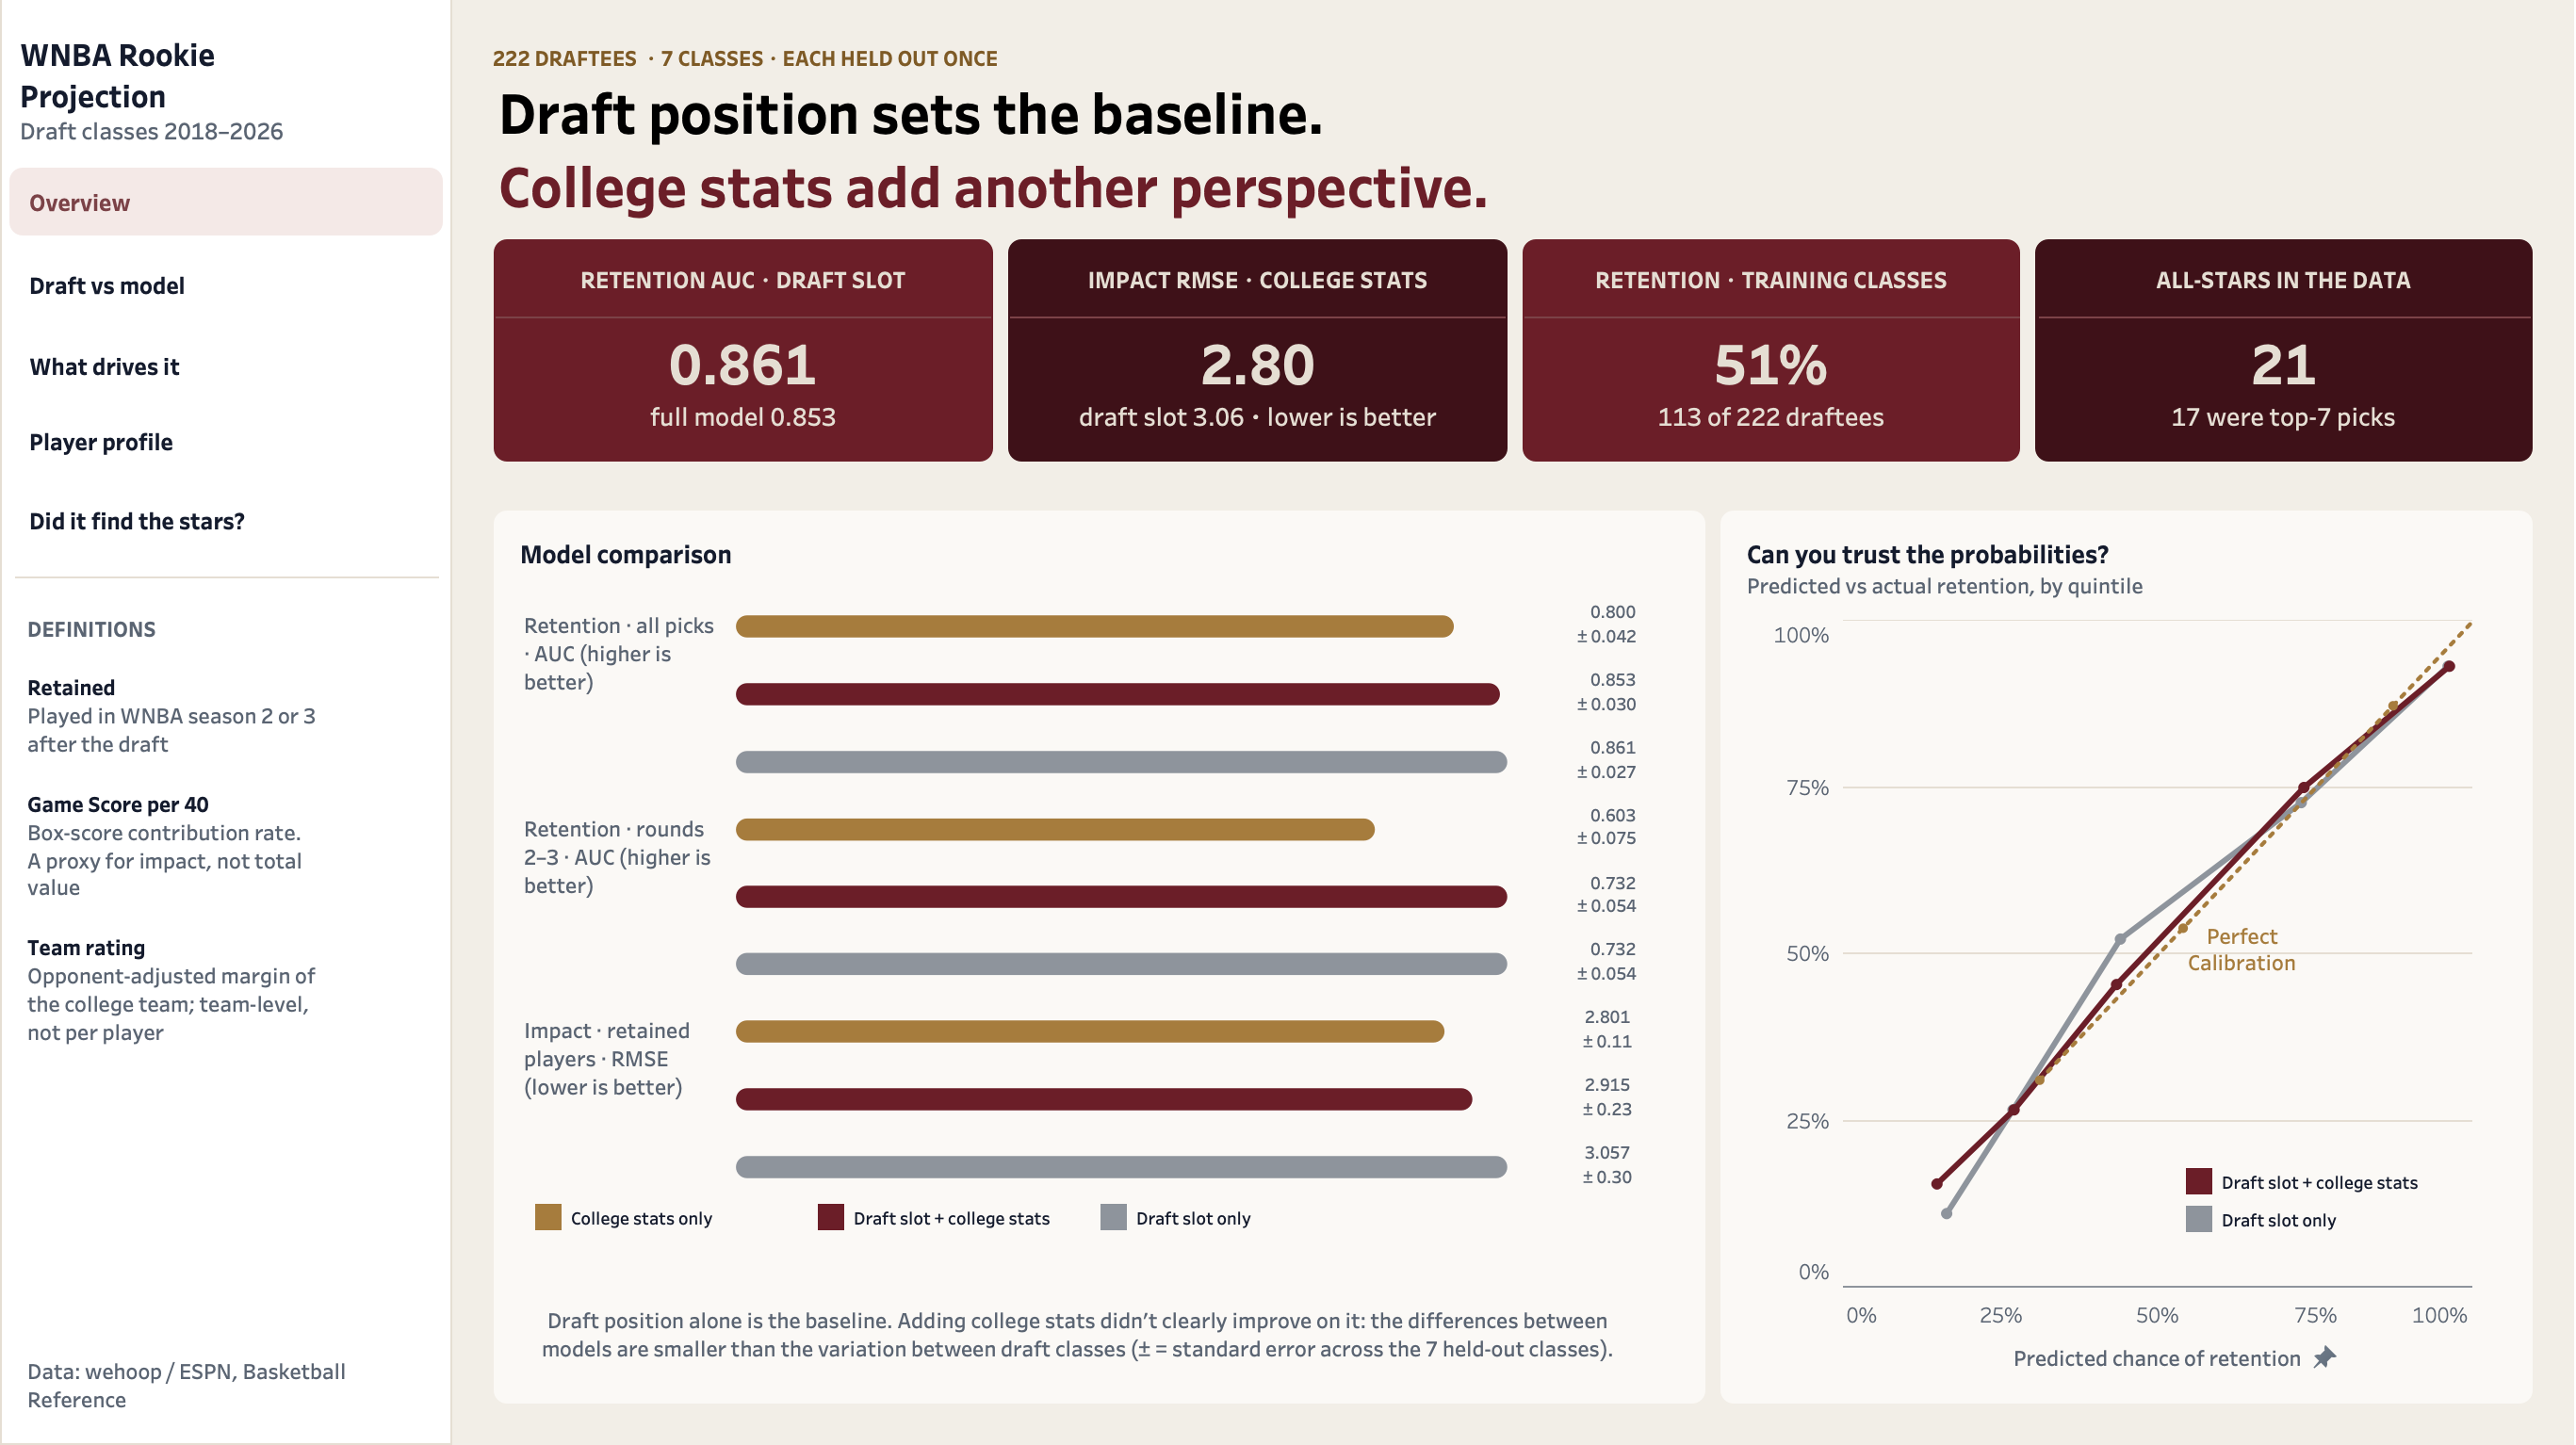

Layout of this report page (visuals, bound fields, positions):
{"tool":"tableau","page":{"name":"Overview","canvas":[1366,768],"ordinal":1},"visuals":[{"type":"text","box":[240,0,1126,40]},{"type":"text","box":[1,1,238,85]},{"type":"text","box":[240,40,1126,84]},{"type":"text","box":[1,86,238,44]},{"type":"dashboard-object","box":[7,90,229,38]},{"type":"text","box":[258,124,273,126]},{"type":"text","box":[531,124,273,126]},{"type":"text","box":[804,124,272,126]},{"type":"text","box":[1076,124,272,126]},{"type":"text","box":[1,130,238,44]},{"type":"dashboard-object","box":[5,134,229,38]},{"type":"blank","box":[263,169,263,1]},{"type":"blank","box":[536,169,263,1]},{"type":"blank","box":[809,169,263,1]},{"type":"blank","box":[1082,169,261,1]},{"type":"text","box":[1,174,238,42]},{"type":"dashboard-object","box":[5,178,229,38]},{"type":"text","box":[1,216,238,39]},{"type":"dashboard-object","box":[5,216,229,39]},{"type":"text","box":[1,255,238,44]},{"type":"dashboard-object","box":[5,255,229,45]},{"type":"worksheet","title":"Model comparison","mark":"Line","rows":["Analysis","Model"],"cols":["Calculation_1981856014573580"],"box":[258,268,651,482]},{"type":"worksheet","title":"Calibration","mark":"Line","rows":["Observed Rate","Calculation_1981856020475923"],"cols":["Mean Predicted"],"box":[909,268,439,482]},{"type":"text","box":[1,299,238,418]},{"type":"blank","box":[8,307,225,1]},{"type":"legend","title":"Calibration","param":"[federated.03bxdpt0ccco4e18y26s11q9w0jx].[none:Model:nk]","box":[1157,618,166,58]},{"type":"legend","title":"Model comparison","param":"[federated.1qgxulf1pt701h1c4biro1p28dhl].[none:Model:nk]","box":[281,637,493,23]},{"type":"text","box":[1,717,238,38]}]}

Visuals, with their boxes in screenshot pixels (x1, y1, x2, y2), scaled from the page's 1366x768 canvas onto the 2576x1445 screenshot:
text: {"left": 452, "top": 0, "right": 2575, "bottom": 75}
text: {"left": 2, "top": 2, "right": 450, "bottom": 162}
text: {"left": 452, "top": 75, "right": 2575, "bottom": 234}
text: {"left": 2, "top": 162, "right": 450, "bottom": 245}
dashboard-object: {"left": 13, "top": 170, "right": 445, "bottom": 241}
text: {"left": 486, "top": 234, "right": 1002, "bottom": 470}
text: {"left": 1002, "top": 234, "right": 1516, "bottom": 470}
text: {"left": 1516, "top": 234, "right": 2030, "bottom": 470}
text: {"left": 2030, "top": 234, "right": 2542, "bottom": 470}
text: {"left": 2, "top": 245, "right": 450, "bottom": 328}
dashboard-object: {"left": 9, "top": 252, "right": 441, "bottom": 324}
blank: {"left": 496, "top": 318, "right": 992, "bottom": 320}
blank: {"left": 1011, "top": 318, "right": 1507, "bottom": 320}
blank: {"left": 1525, "top": 318, "right": 2022, "bottom": 320}
blank: {"left": 2041, "top": 318, "right": 2533, "bottom": 320}
text: {"left": 2, "top": 328, "right": 450, "bottom": 406}
dashboard-object: {"left": 9, "top": 335, "right": 441, "bottom": 406}
text: {"left": 2, "top": 406, "right": 450, "bottom": 479}
dashboard-object: {"left": 9, "top": 406, "right": 441, "bottom": 479}
text: {"left": 2, "top": 479, "right": 450, "bottom": 562}
dashboard-object: {"left": 9, "top": 479, "right": 441, "bottom": 564}
"Model comparison" worksheet (Line marks): {"left": 486, "top": 504, "right": 1714, "bottom": 1411}
"Calibration" worksheet (Line marks): {"left": 1714, "top": 504, "right": 2542, "bottom": 1411}
text: {"left": 2, "top": 562, "right": 450, "bottom": 1349}
blank: {"left": 15, "top": 577, "right": 439, "bottom": 579}
"Calibration" legend: {"left": 2182, "top": 1162, "right": 2495, "bottom": 1272}
"Model comparison" legend: {"left": 530, "top": 1198, "right": 1459, "bottom": 1242}
text: {"left": 2, "top": 1349, "right": 450, "bottom": 1421}
